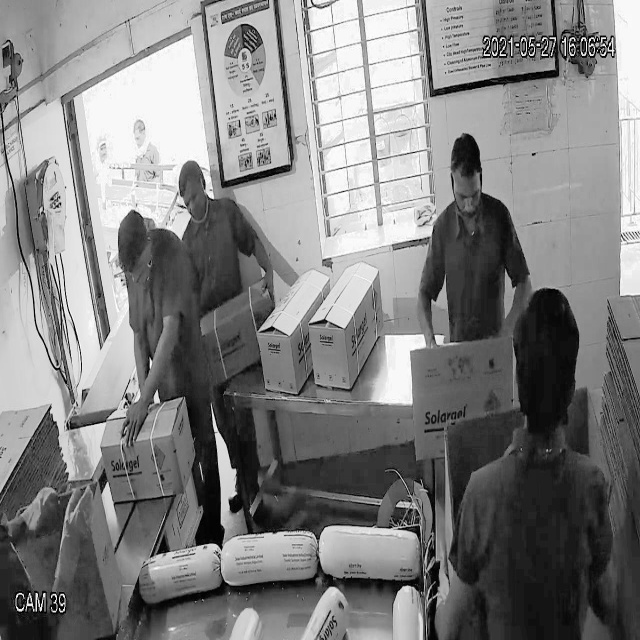Sin_gafas: (450, 179, 487, 218)
